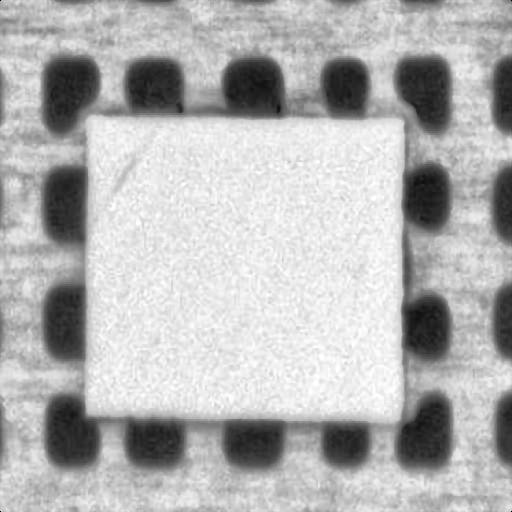DIE_CRACK: (104, 144, 139, 204)
